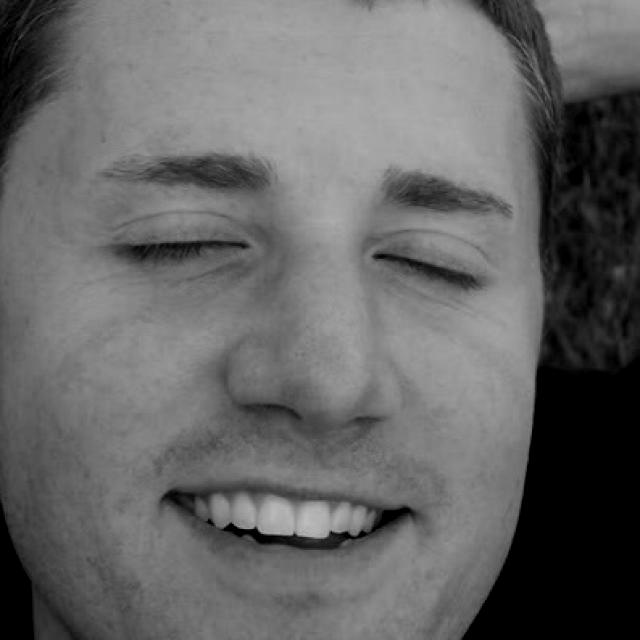real: (0, 0, 540, 640), (88, 188, 502, 332)
